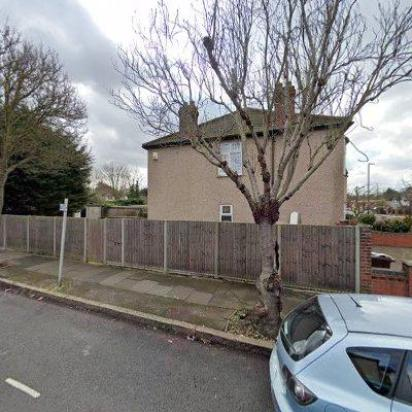stationary-car-onstreet: (267, 291, 411, 411)
